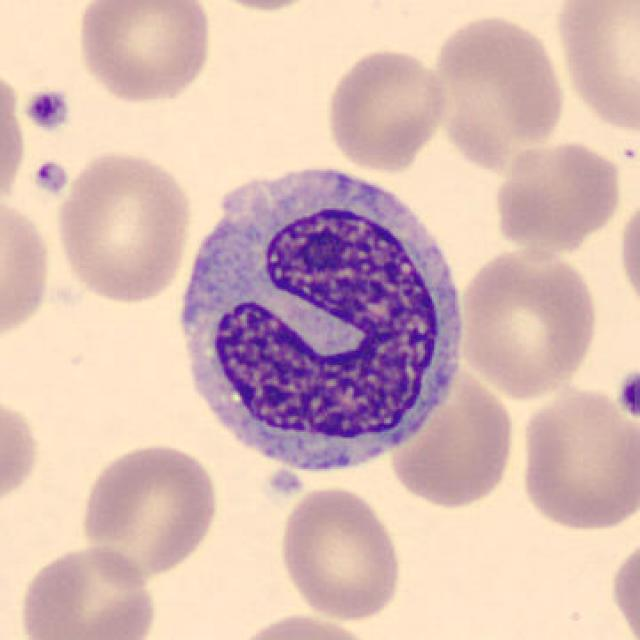Monocyte: (165, 151, 475, 495)
Platelets: (0, 97, 37, 211), (23, 85, 73, 134), (611, 365, 640, 423), (30, 158, 70, 198)
RBC: (453, 244, 603, 401), (51, 146, 196, 307), (427, 9, 569, 173), (76, 437, 222, 584), (386, 362, 519, 512), (514, 383, 638, 536), (276, 483, 407, 622), (322, 44, 452, 175), (490, 136, 626, 256), (71, 0, 217, 106), (14, 541, 160, 640), (551, 0, 638, 136), (0, 192, 55, 349), (0, 390, 43, 518), (0, 58, 30, 214), (226, 610, 380, 640), (606, 530, 640, 640), (615, 187, 640, 319), (190, 0, 331, 14)
